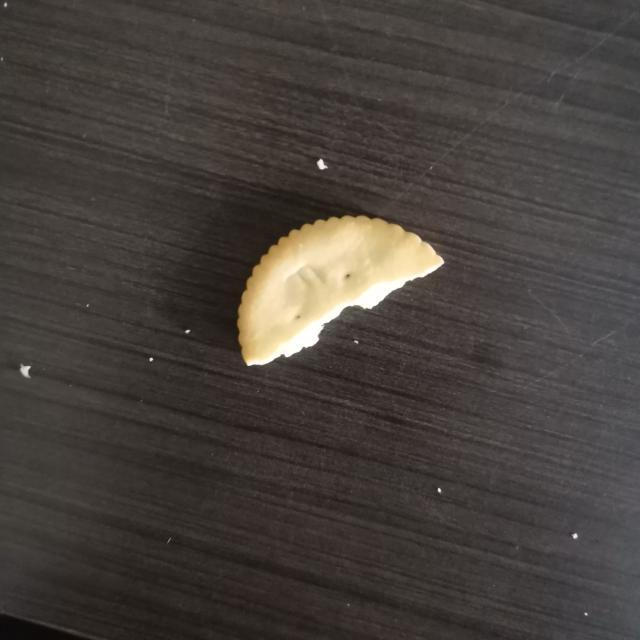Broken: (236, 213, 444, 367)
